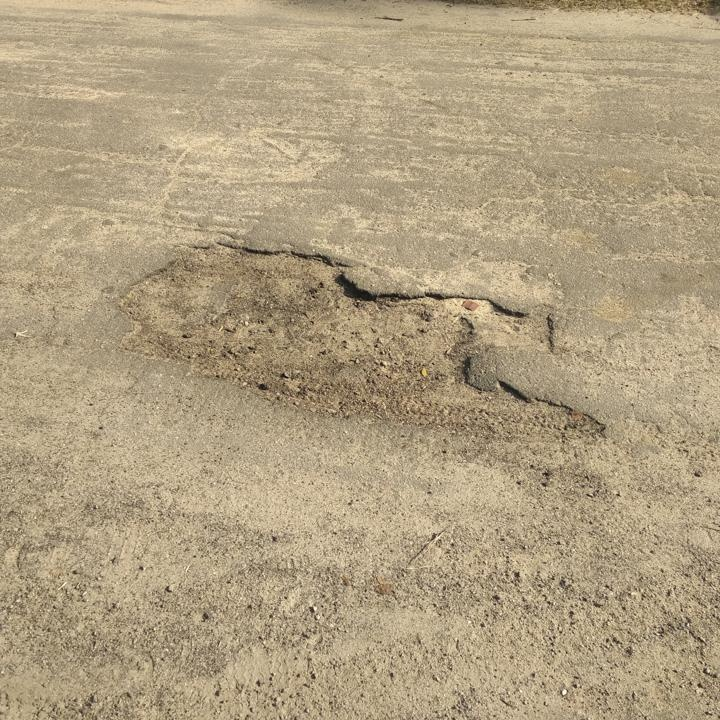pothole: (111, 235, 615, 449)
